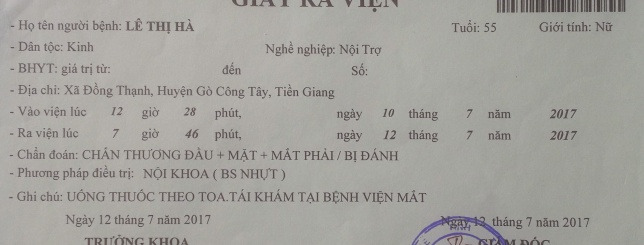add: (156, 82, 194, 99), (215, 81, 246, 100), (117, 82, 156, 97), (83, 81, 114, 99), (302, 83, 336, 99), (275, 83, 302, 100), (248, 83, 274, 99), (61, 81, 82, 100), (194, 81, 215, 99)
birth: (481, 19, 501, 35)
come_time: (545, 105, 580, 121), (408, 105, 441, 121), (485, 106, 513, 123), (334, 106, 364, 121), (214, 106, 243, 121), (380, 106, 400, 121), (140, 106, 163, 119), (461, 107, 480, 122), (180, 105, 199, 119), (109, 104, 125, 119)
diagnostic: (124, 145, 182, 162), (81, 144, 122, 162), (361, 147, 400, 164), (301, 148, 336, 163), (228, 148, 260, 164), (272, 147, 301, 163), (182, 147, 215, 161), (343, 147, 360, 163), (215, 149, 228, 162), (261, 148, 271, 162), (335, 148, 343, 162)
job: (362, 42, 386, 58), (338, 42, 362, 57)
name: (124, 16, 145, 36), (148, 19, 173, 35), (174, 17, 195, 33)
nation: (66, 39, 95, 53)
note: (107, 188, 156, 205), (254, 187, 298, 204), (65, 188, 107, 203), (323, 189, 360, 206), (156, 189, 196, 204), (360, 188, 395, 204), (395, 188, 429, 204), (298, 186, 321, 205), (198, 190, 229, 203), (229, 188, 254, 203)
out_time: (408, 127, 441, 143), (547, 128, 581, 143), (213, 127, 244, 143), (334, 127, 365, 143), (140, 126, 164, 143), (486, 129, 513, 142), (382, 125, 401, 143), (183, 126, 202, 143), (106, 125, 125, 141), (463, 127, 479, 142)
sex: (594, 18, 615, 34)
solution: (241, 166, 280, 182), (169, 166, 209, 181), (142, 165, 169, 182), (219, 167, 240, 181), (280, 167, 290, 181), (213, 167, 219, 181)
